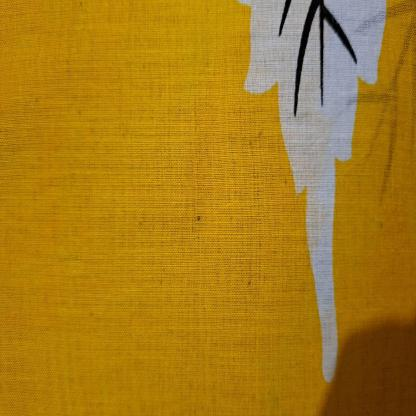spot: (274, 168, 294, 192), (244, 262, 259, 293), (192, 200, 204, 234)
